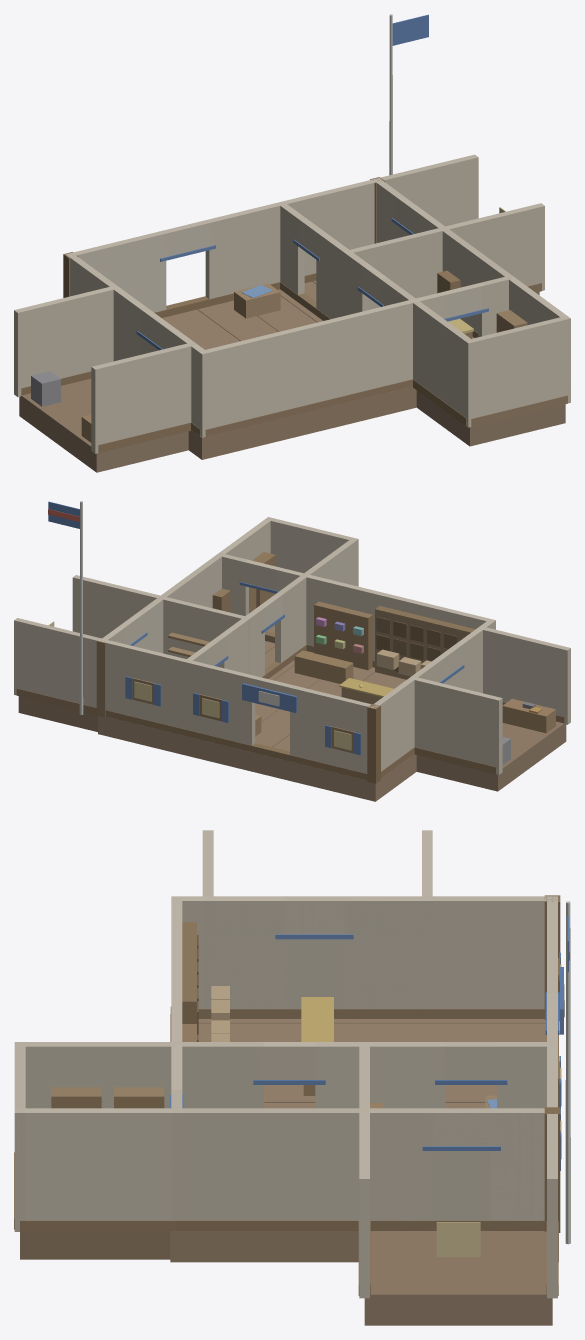
The model's file is shell.glb.
3 views of the same model, one above another, from view 1: azimuth 30°, elevation 25°; view 2: azimuth 150°, elevation 25°; view 3: azimuth 270°, elevation 25° (orthographic). The views are drawn at different scales.
Visible parts, largest first — view 1: shell2; view 2: shell2; view 3: shell2.
Part boxes in pixels (bbox=[...]): shell2: bbox=[14, 14, 570, 472]; shell2: bbox=[14, 501, 570, 801]; shell2: bbox=[14, 830, 570, 1325].
Bounding box in the file's own units: 26.35 × 13.05 × 17.78.
